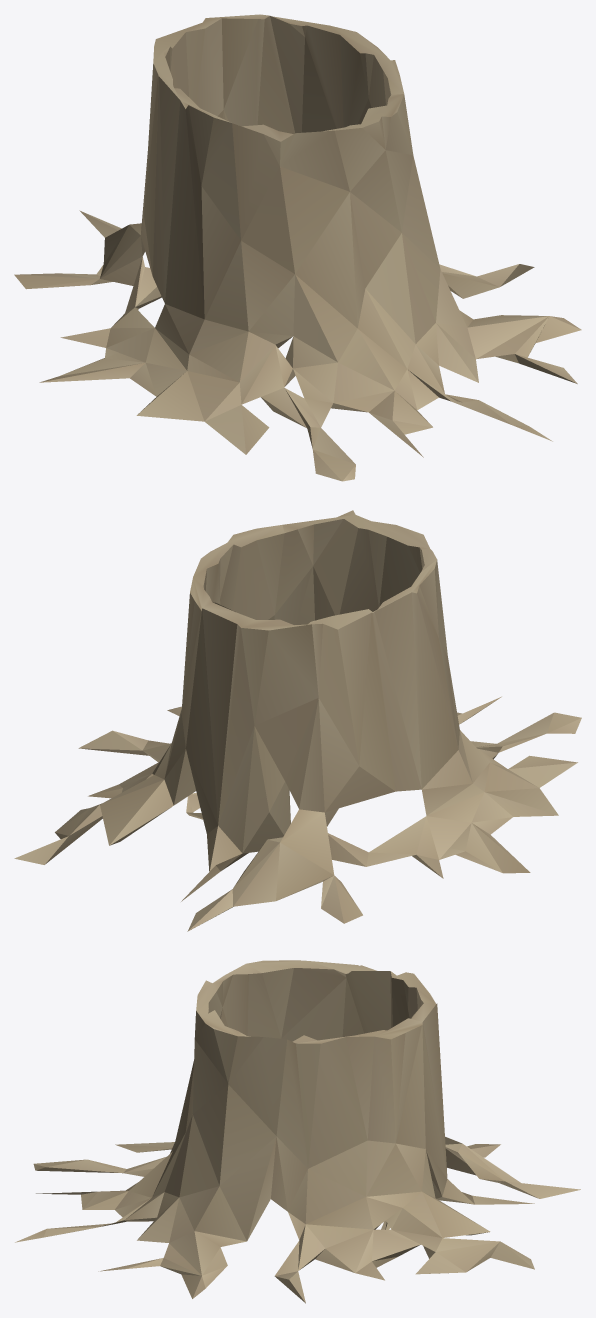
The model's file is teak_stump.glb.
3 renders of one model, top to bottom at view 1: azimuth 30°, elevation 25°; view 2: azimuth 150°, elevation 25°; view 3: azimuth 270°, elevation 25°, orthographic. The views are drawn at different scales.
Visible parts, largest first — view 1: Stump; view 2: Stump; view 3: Stump.
Part boxes in pixels (x1,y1,x2,y2): Stump: (14,14,581,481); Stump: (14,510,581,931); Stump: (15,960,580,1303).
Bounding box in the file's own units: 1.57 × 0.8142 × 1.97.
